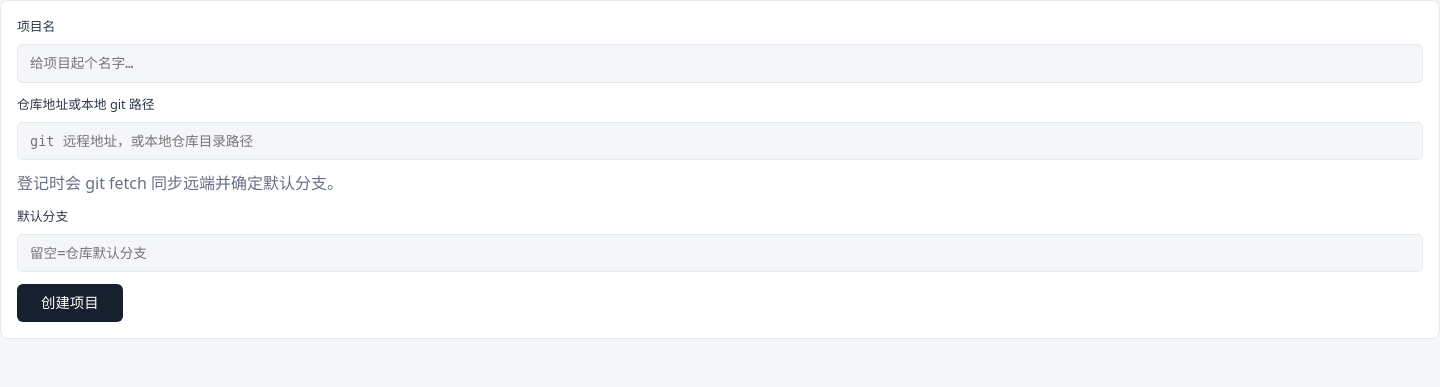
NewProjectForm › surfaces a server-side error from the mutation
The image size is (1440, 387).
Type "demo" into the field labelled "项目名". click: (720, 63)
box: [17, 44, 1423, 83]
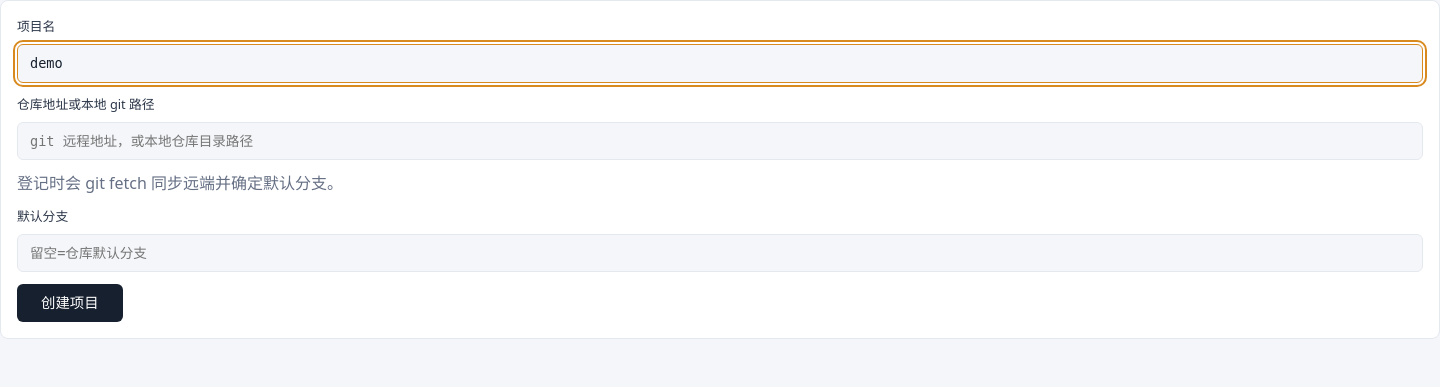
Type "/repos/demo" into the field labelled "仓库地址或本地 git 路径". click: (720, 141)
box: [17, 122, 1423, 160]
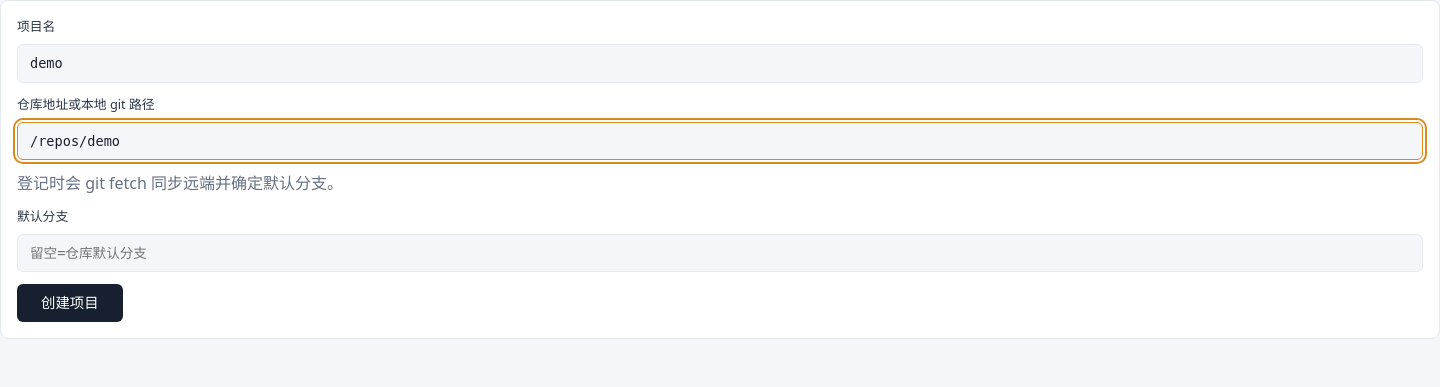
Click the button "创建项目". click: (70, 303)
box: [17, 284, 123, 322]
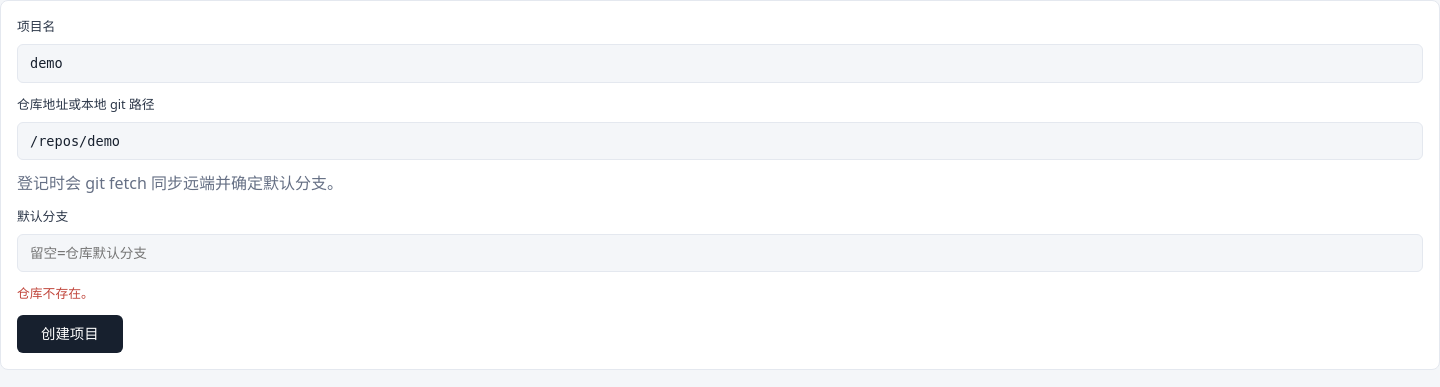
Expected: the text "仓库不存在。" is shown, [17, 284, 94, 302]
